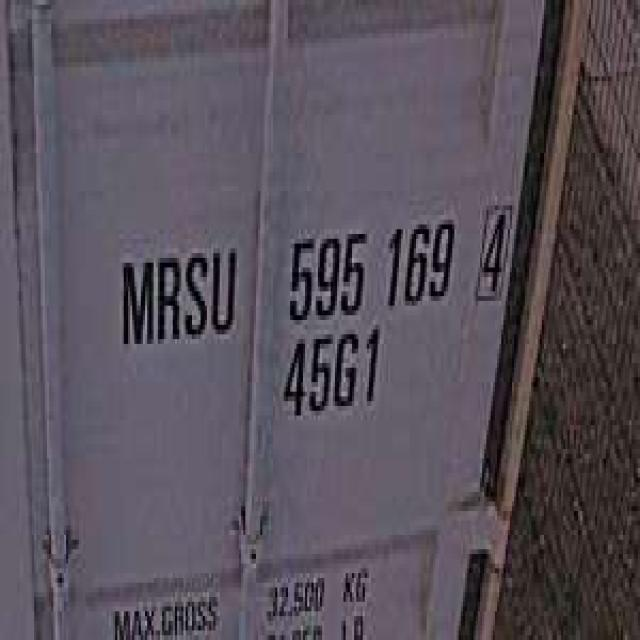dv: (472, 187, 514, 310)
owner: (113, 224, 241, 354)
serial: (282, 206, 458, 330)
size: (277, 325, 388, 430)
